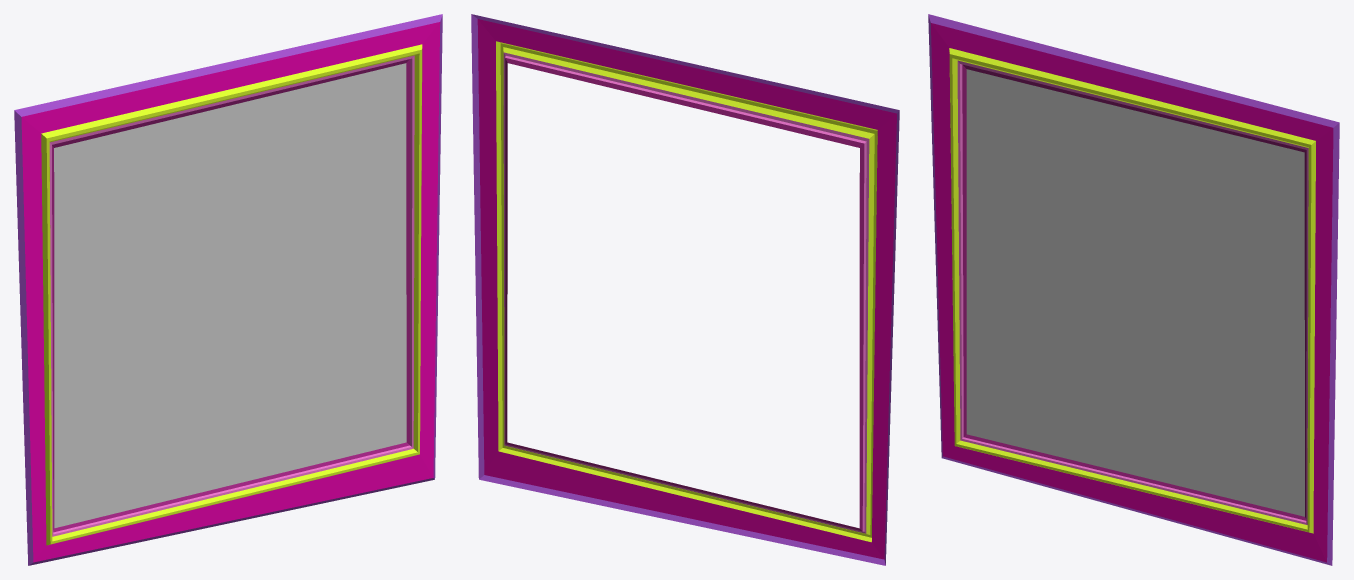
The model's file is marco_caldero.gltf.
The picture shows the model from 3 angles, left to right: view 1: azimuth 30°, elevation 25°; view 2: azimuth 150°, elevation 25°; view 3: azimuth 330°, elevation 25°; orthographic projection. The views are drawn at different scales.
Visible parts, largest first — view 1: Lienso_Obras_Oraculo, Marco_Obras_Oraculo; view 2: Marco_Obras_Oraculo; view 3: Lienso_Obras_Oraculo, Marco_Obras_Oraculo.
Boxes of the visible parts, bbox=[...] form: Lienso_Obras_Oraculo: bbox=[54, 63, 406, 528]; Marco_Obras_Oraculo: bbox=[14, 14, 442, 565]; Marco_Obras_Oraculo: bbox=[471, 14, 899, 565]; Lienso_Obras_Oraculo: bbox=[966, 69, 1304, 516]; Marco_Obras_Oraculo: bbox=[928, 14, 1339, 565].
Size of the model in its own units: 2.03 by 2.13 by 0.042.
Materials: 1 (1 with a texture image).
